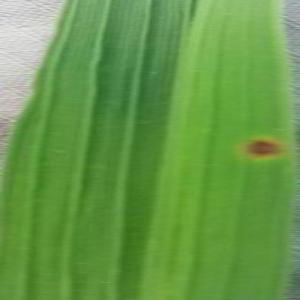Brown_Spot: (233, 124, 293, 172)
